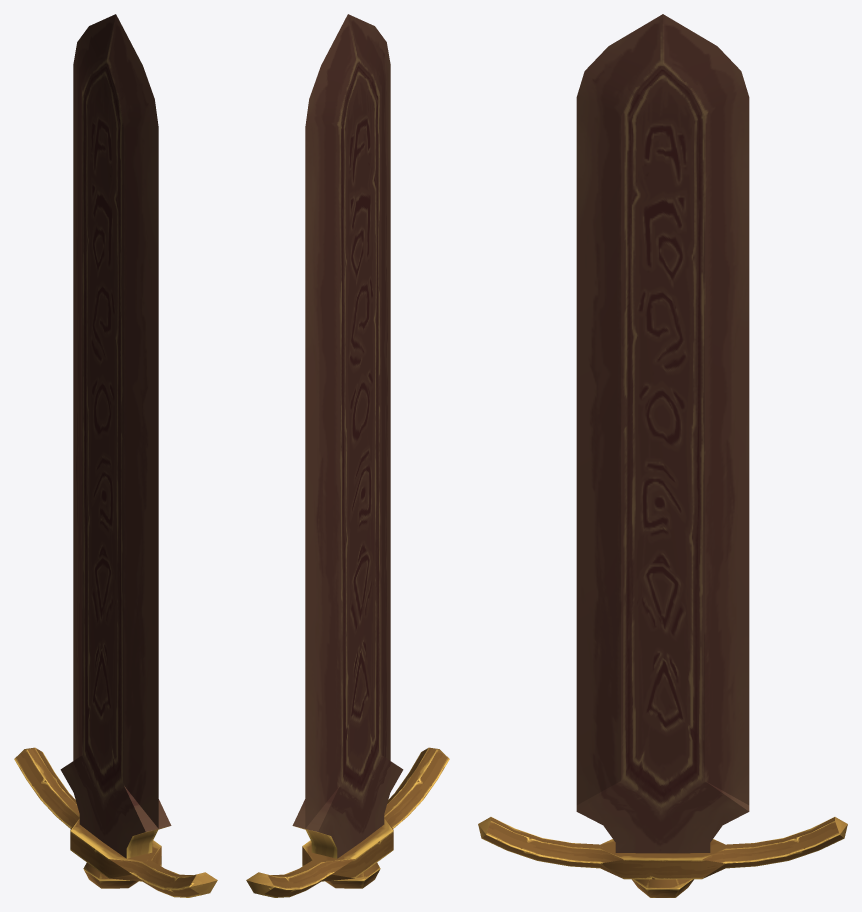
Rendered from SM_WEP_head_sword_battle_12.fbx.
3 views of the same model, side by side, from view 1: azimuth 30°, elevation 25°; view 2: azimuth 150°, elevation 25°; view 3: azimuth 270°, elevation 25° (orthographic).
Parts seen in each view (by area): view 1: SM_WEP_head_sword_battle_12; view 2: SM_WEP_head_sword_battle_12; view 3: SM_WEP_head_sword_battle_12.
Boxes of the visible parts, left/top/right/bottom form: SM_WEP_head_sword_battle_12: left=14, top=14, right=217, bottom=897; SM_WEP_head_sword_battle_12: left=246, top=14, right=449, bottom=897; SM_WEP_head_sword_battle_12: left=478, top=14, right=847, bottom=897.
Size of the model in its own units: 7.51 by 118 by 45.12.
